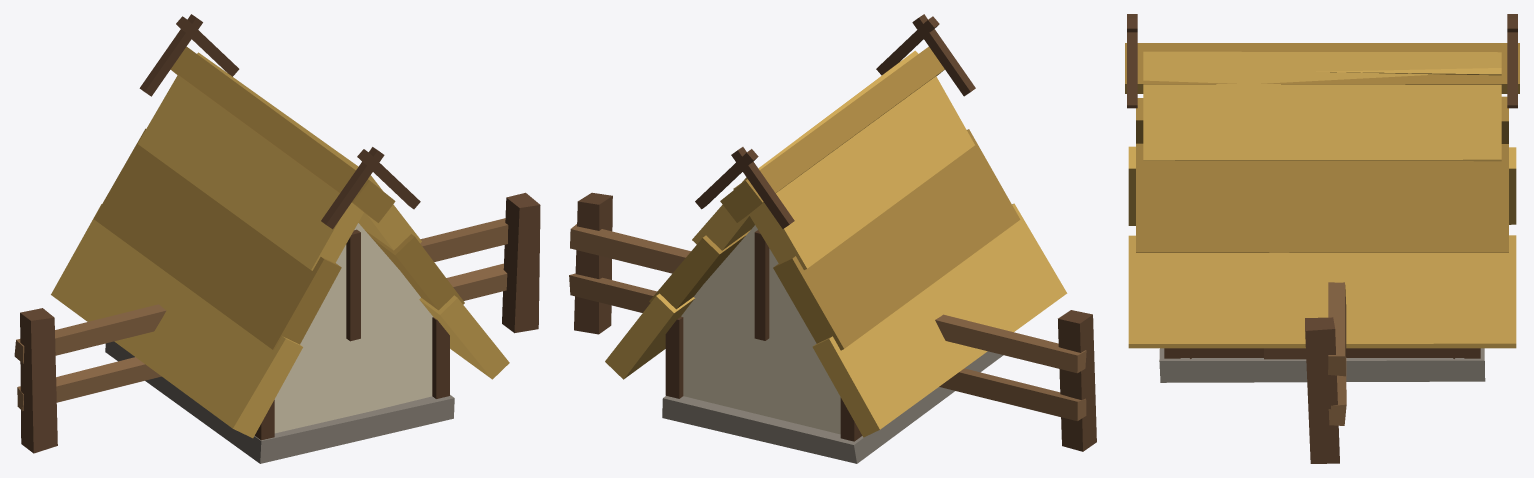
The model's file is camp.glb.
The picture shows the model from 3 angles, left to right: view 1: azimuth 30°, elevation 25°; view 2: azimuth 150°, elevation 25°; view 3: azimuth 270°, elevation 25°; orthographic projection. The views are drawn at different scales.
Visible parts, largest first — view 1: camp_variant_0, camp_variant_1; view 2: camp_variant_0, camp_variant_1; view 3: camp_variant_0, camp_variant_1.
Boxes of the visible parts, x1,y1,x2,y2 form: camp_variant_0: (51, 14, 509, 463); camp_variant_1: (14, 192, 540, 453); camp_variant_0: (605, 14, 1067, 463); camp_variant_1: (569, 192, 1096, 451); camp_variant_0: (1125, 14, 1519, 382); camp_variant_1: (1305, 282, 1346, 463).
Bounding box in the file's own units: 0.1687 × 0.098 × 0.108.
